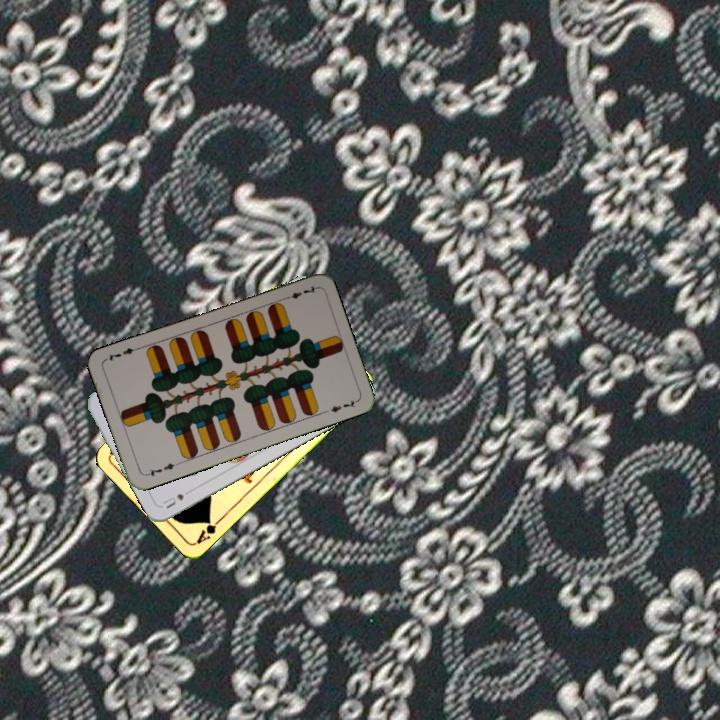E7: (141, 459, 181, 479), (280, 282, 319, 302)
GA: (192, 514, 225, 547)
SU: (159, 489, 186, 511)
